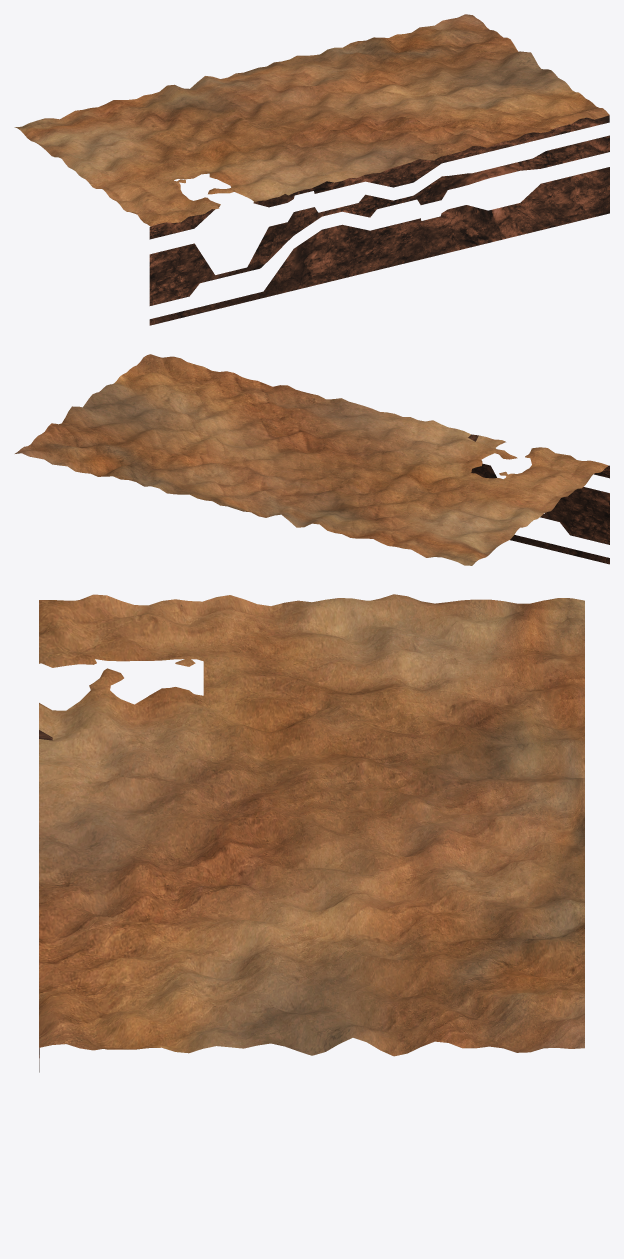
The model's file is ground_plane.FBX.
The picture shows the model from 3 angles, top to bottom: view 1: azimuth 30°, elevation 25°; view 2: azimuth 150°, elevation 25°; view 3: azimuth 270°, elevation 25°; orthographic projection. The views are drawn at different scales.
Parts seen in each view (by area): view 1: Box009; view 2: Box009; view 3: Box009.
Boxes of the visible parts, <box> form: Box009: <box>14,14,609,325</box>; Box009: <box>15,354,609,565</box>; Box009: <box>39,594,584,1072</box>.
Size of the model in its own units: 132 by 28.71 by 67.67.
